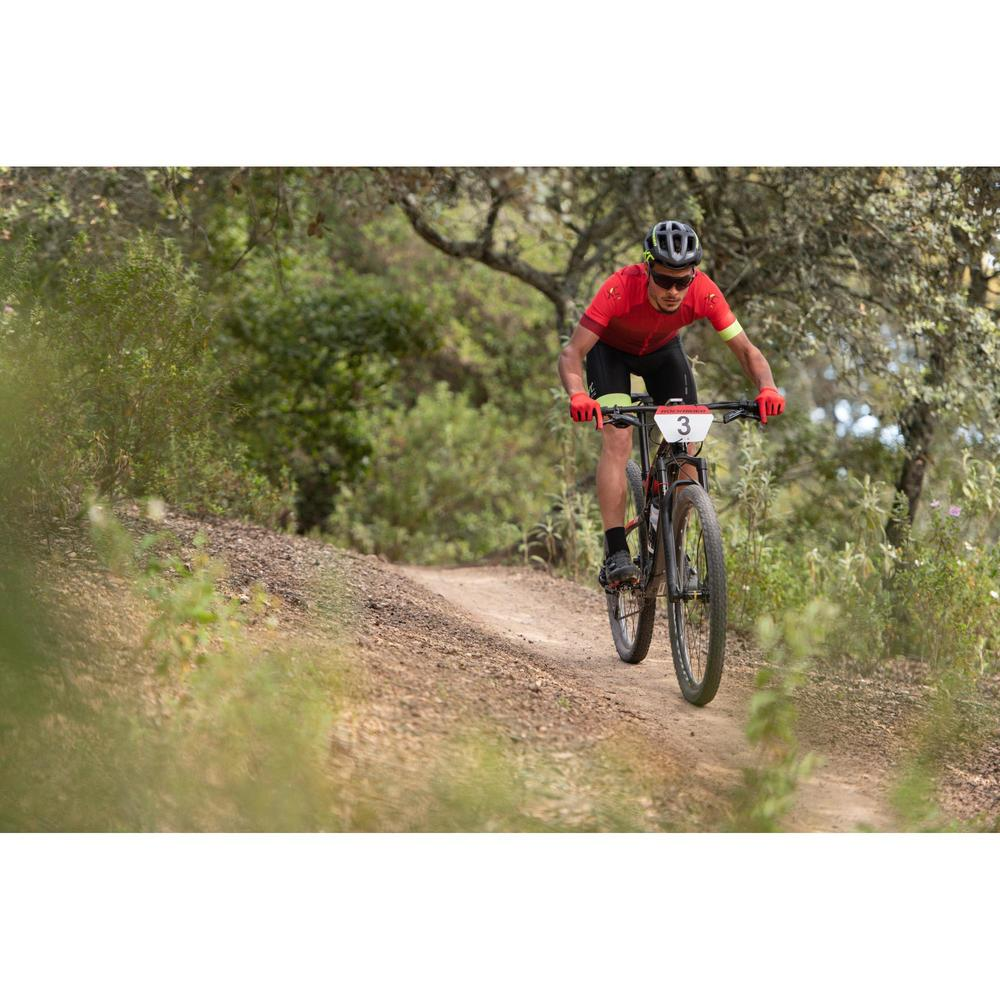MountainBike: (560, 383, 789, 697)
